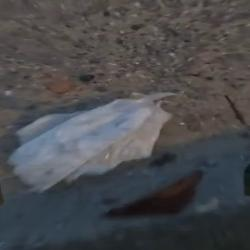Restaffald: (8, 92, 176, 193)
